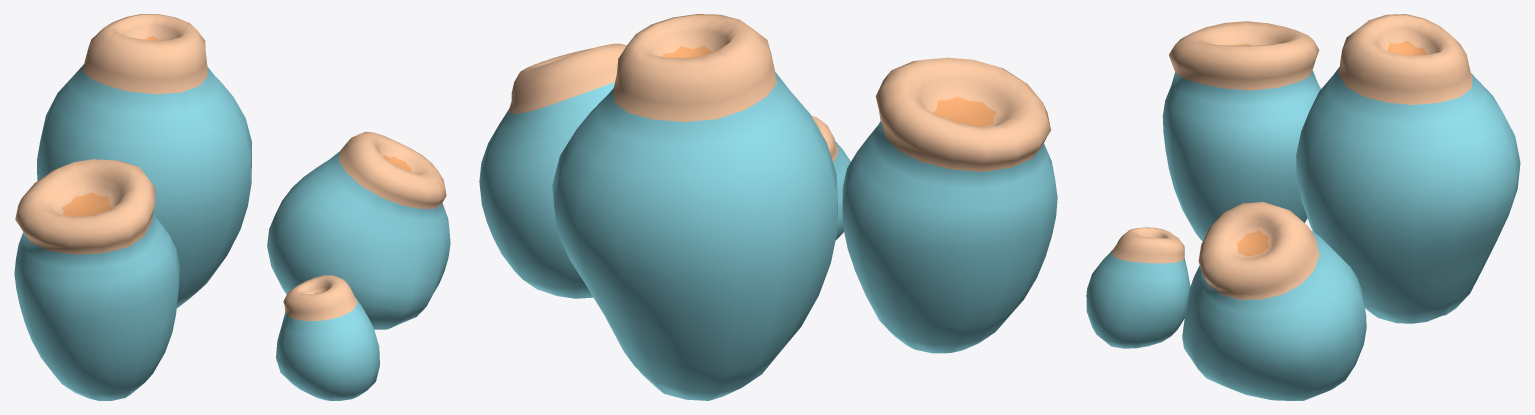
File: Sponge_B_03.fbx
3 views of the same model, side by side, from view 1: azimuth 30°, elevation 25°; view 2: azimuth 150°, elevation 25°; view 3: azimuth 270°, elevation 25° (orthographic). The views are drawn at different scales.
Visible parts, largest first — view 1: Sponge_B_03_LOD0; view 2: Sponge_B_03_LOD0; view 3: Sponge_B_03_LOD0.
Part boxes in pixels (x1=…): Sponge_B_03_LOD0: x1=14, y1=14, x2=450, y2=400; Sponge_B_03_LOD0: x1=479, y1=14, x2=1057, y2=400; Sponge_B_03_LOD0: x1=1086, y1=14, x2=1520, y2=400.
Size of what is drawn, in the model's own units: 552 by 350 by 477.
